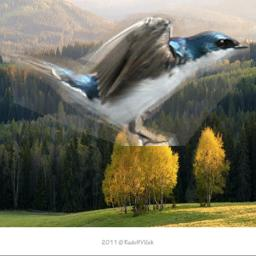Swallow: (1, 13, 250, 146)
